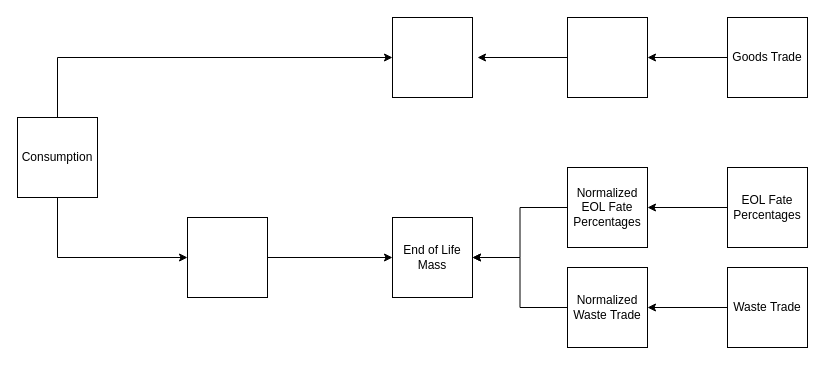
This 825x365 diagram has some shape labels left out. Each missing label, with the centre of its shape:
Lifecycle Distribitions: the point at 227,257
Normalized Goods Trade: the point at 607,57
Production: the point at 432,57
